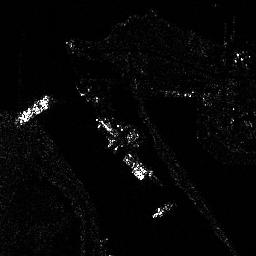ship: (94, 116, 120, 153), (122, 154, 146, 183), (152, 203, 173, 221)
